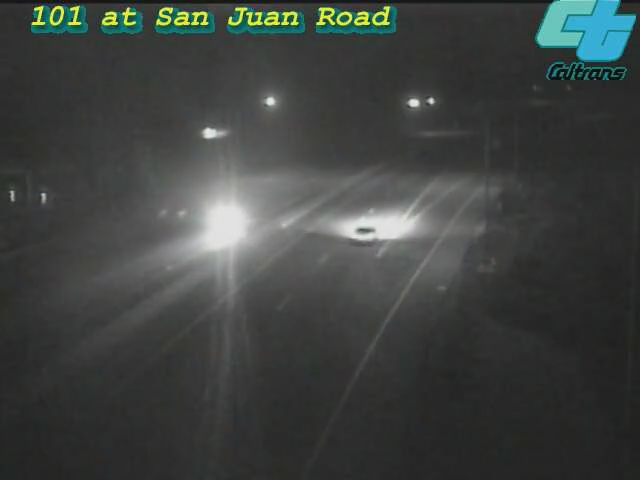vehicle: (326, 193, 406, 273), (186, 182, 266, 262)
